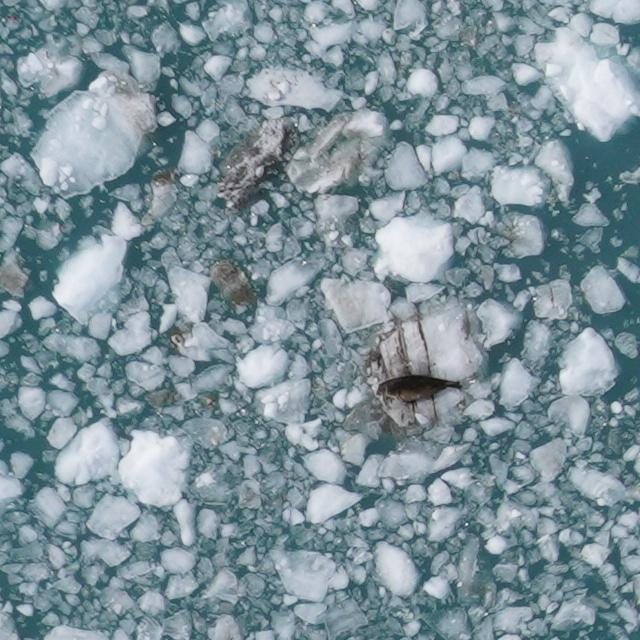seal: (376, 364, 467, 412)
